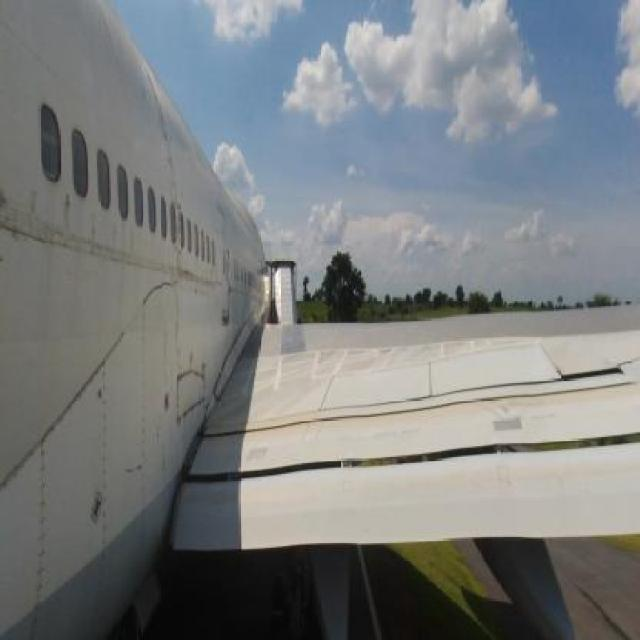Missing-Rivet: (16, 386, 81, 480), (178, 391, 211, 432)
Rust: (169, 259, 214, 292)
Scartch: (98, 357, 122, 585), (29, 432, 52, 612), (152, 84, 183, 190), (58, 190, 78, 222)
